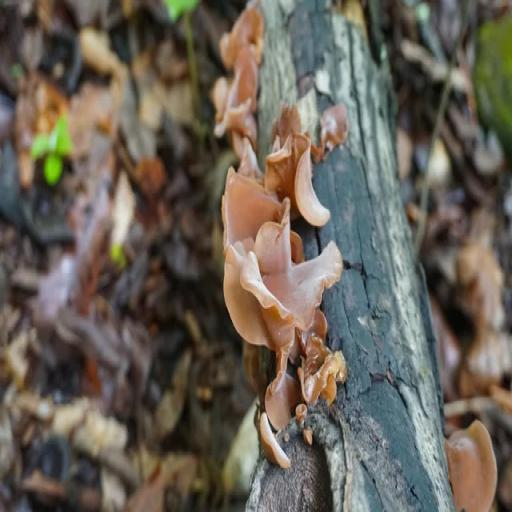Wood Ear Mushroom: (225, 134, 358, 460)
